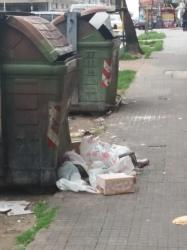Dechets: (56, 135, 148, 194), (0, 199, 33, 217), (69, 128, 90, 137), (173, 211, 183, 223)
Trash: (0, 10, 77, 198), (52, 4, 123, 118)
